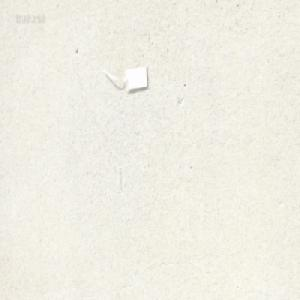LuggageTag: (100, 62, 150, 93)
